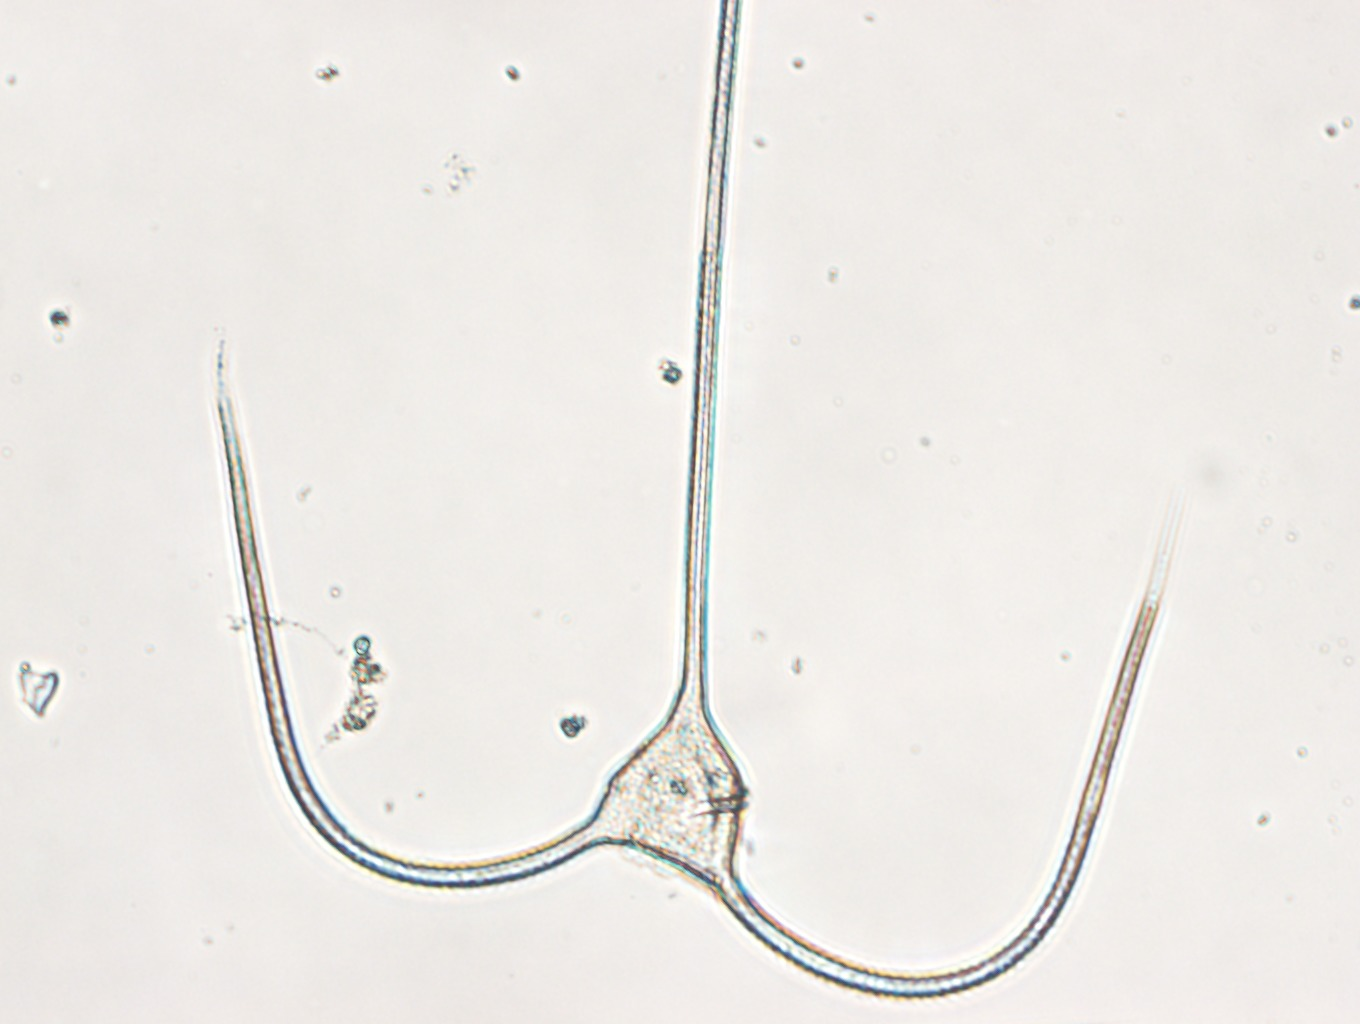ceratium trichoceros: (216, 1, 1179, 1000)
